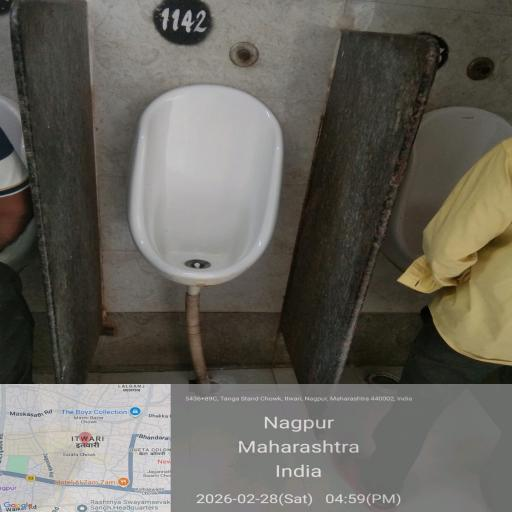clean_floor: (282, 28, 382, 324), (42, 21, 119, 334), (145, 94, 271, 274), (119, 0, 259, 75)
partial_dirty_floor: (88, 346, 318, 387)
